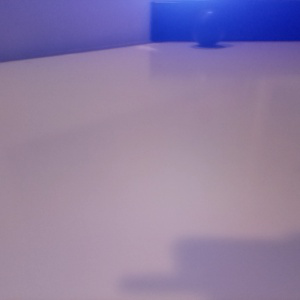dead_ball: (191, 10, 226, 45)
